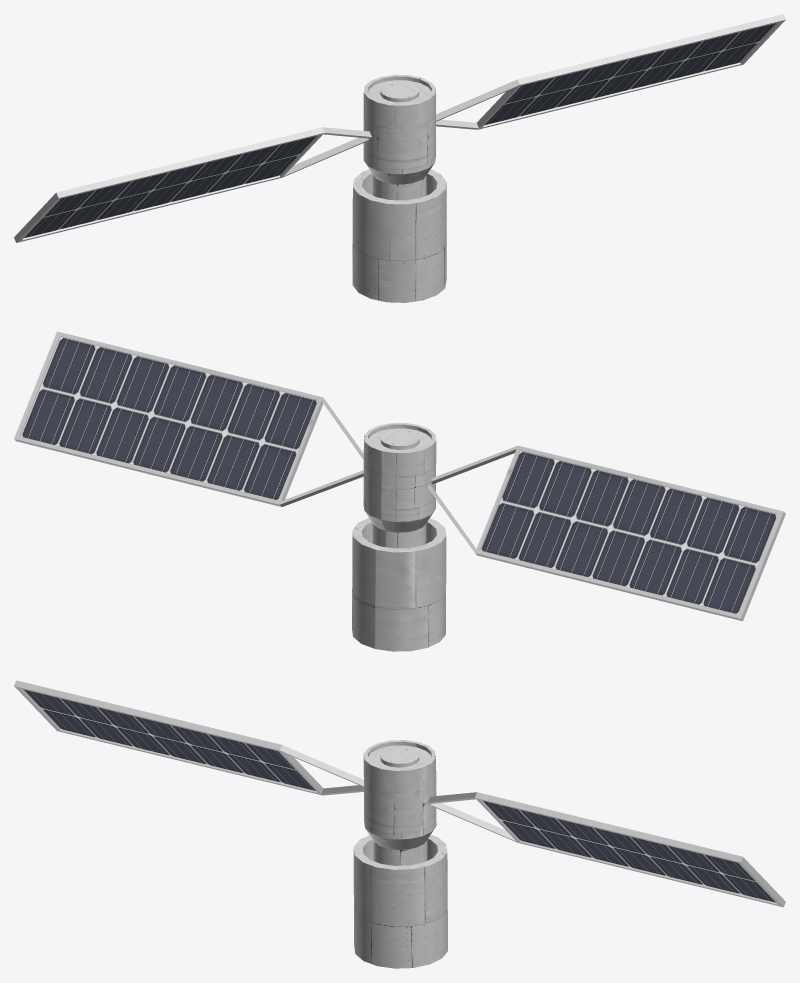
Rendered from sat3-2.gltf.
The picture shows the model from 3 angles, top to bottom: view 1: azimuth 30°, elevation 25°; view 2: azimuth 150°, elevation 25°; view 3: azimuth 330°, elevation 25°; orthographic projection.
Visible parts, largest first — view 1: Circle; view 2: Circle; view 3: Circle.
Boxes of the visible parts, left/top/right/bottom form: Circle: left=14, top=14, right=785, bottom=302; Circle: left=14, top=331, right=785, bottom=651; Circle: left=14, top=680, right=785, bottom=968.
Bounding box in the file's own units: 2302 × 594 × 262.
2 materials, 2 textured.
